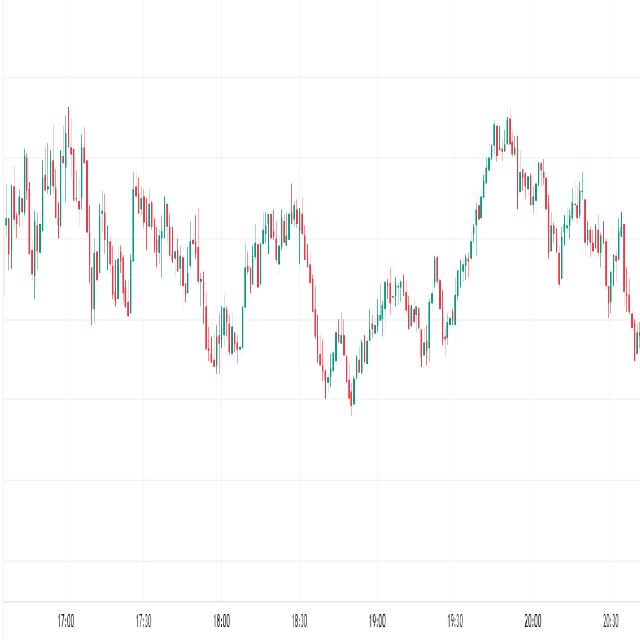Channel-down: (479, 80, 634, 363)
Double-Bottom: (308, 299, 372, 419), (200, 283, 249, 390)
